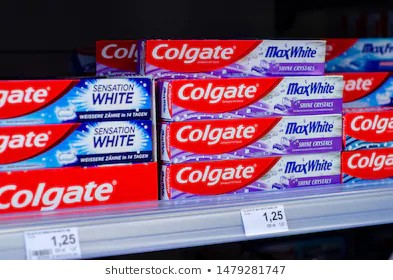colgate-medium: (163, 75, 344, 123), (168, 154, 340, 201), (142, 39, 329, 82), (161, 115, 342, 150)
